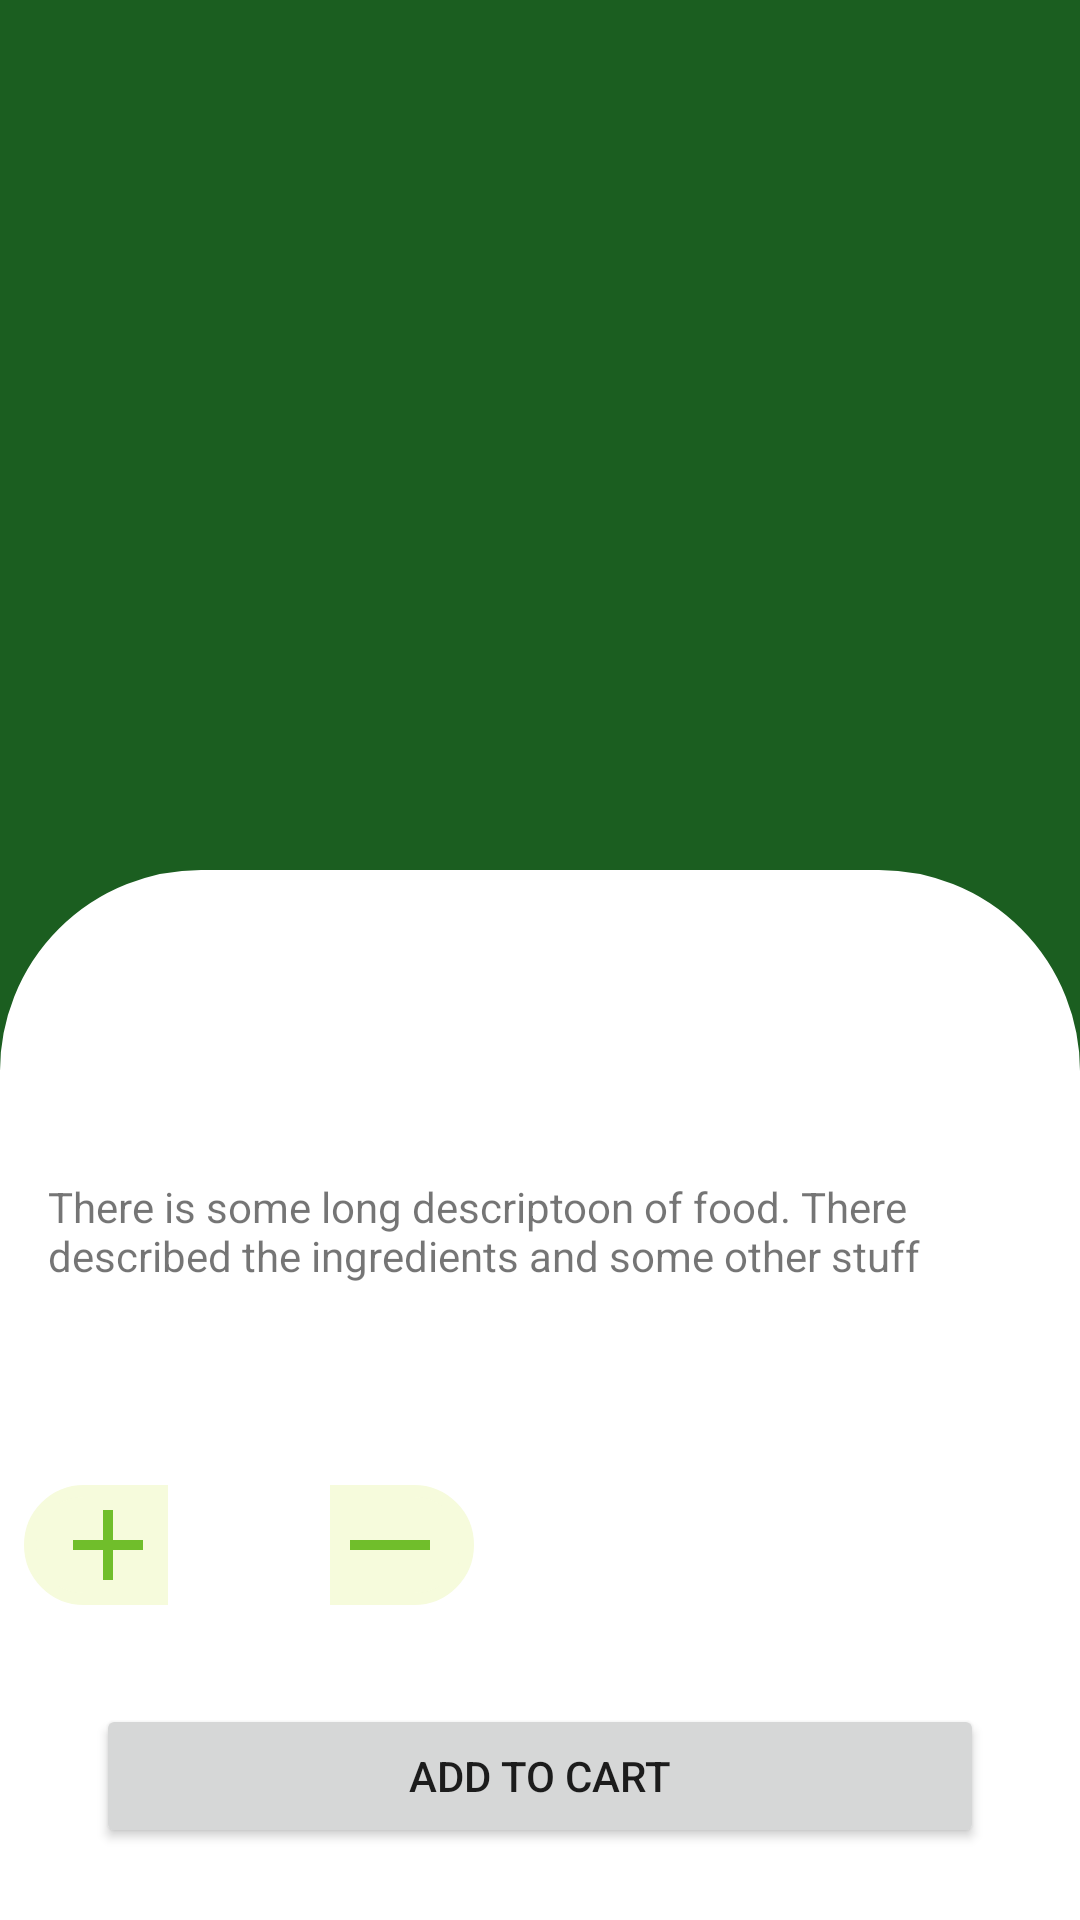

Icons on this 1080px x 1920px Android screen, each with the point to tap as [x,y]:
dec: [390,1545]
inc: [108,1545]
